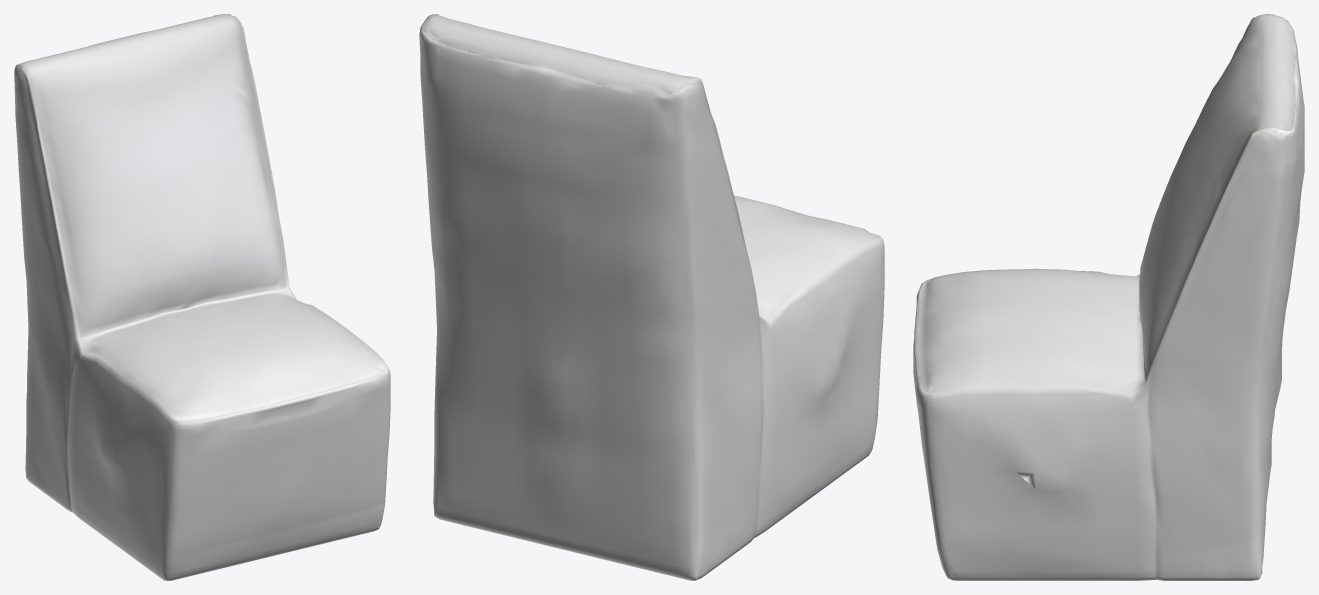
Rendered from Chair_Martini_Ostrich_32InchTall_0222190215_texture.glb.
3 renders of one model, left to right at view 1: azimuth 30°, elevation 25°; view 2: azimuth 150°, elevation 25°; view 3: azimuth 270°, elevation 25°, orthographic. The views are drawn at different scales.
Visible parts, largest first — view 1: Mesh_0; view 2: Mesh_0; view 3: Mesh_0.
Boxes of the visible parts, x1=… form: Mesh_0: x1=14, y1=14, x2=390, y2=580; Mesh_0: x1=419, y1=14, x2=884, y2=580; Mesh_0: x1=913, y1=14, x2=1304, y2=580.
Bounding box in the file's own units: 0.49 × 0.8128 × 0.6339.
Materials: 1 (1 with a texture image).
